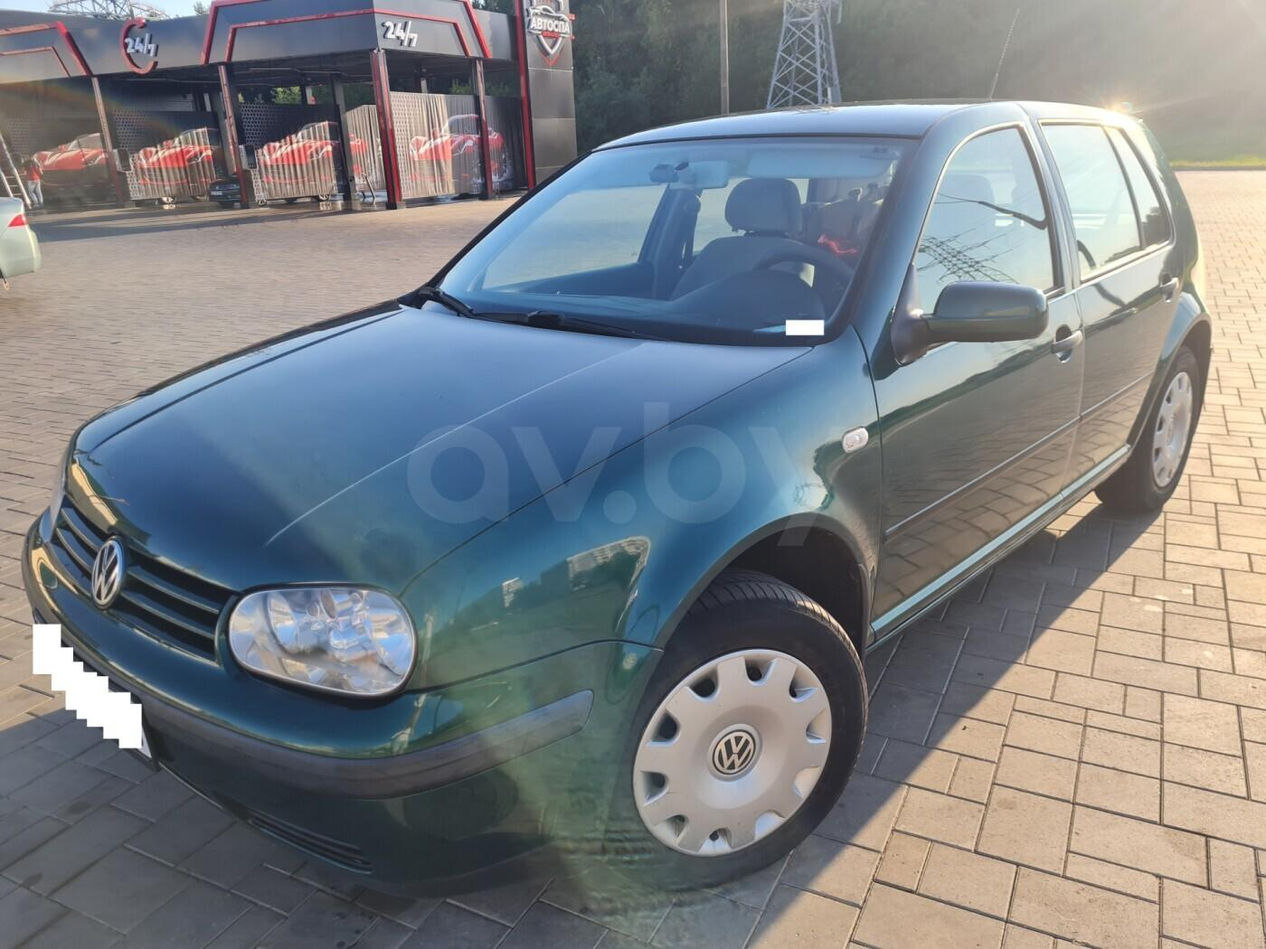Golf_1997-2006: (13, 103, 1213, 861)
